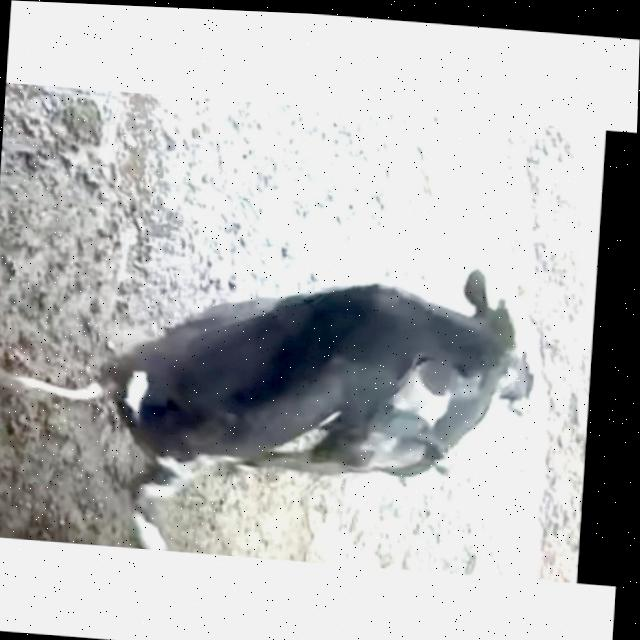ride: (41, 223, 513, 577)
